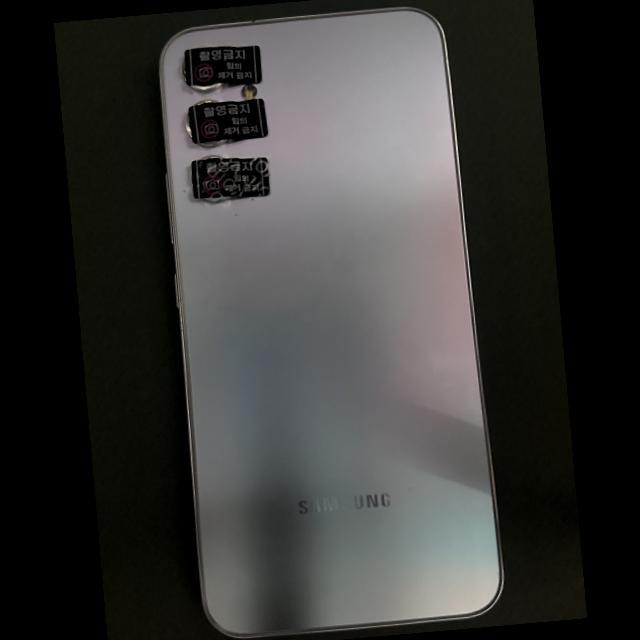lens: (193, 84, 222, 91), (199, 141, 225, 146), (204, 197, 230, 202)
phone: (161, 8, 502, 637)
sticker: (189, 99, 267, 143), (192, 158, 269, 199), (184, 46, 261, 85)
